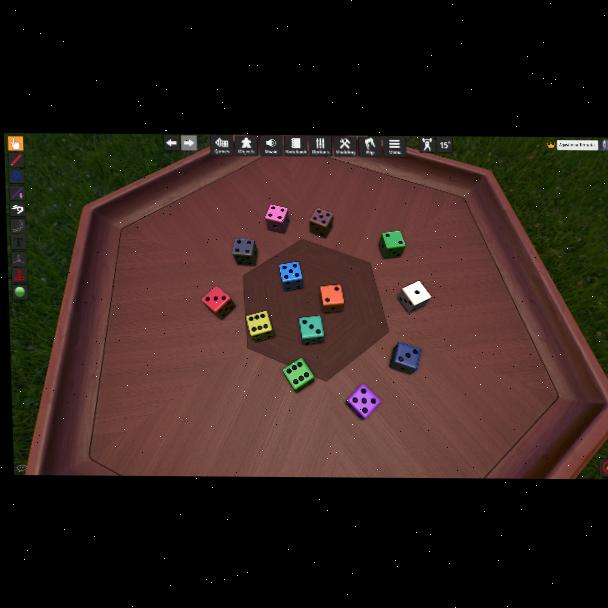d6: (345, 384, 379, 419), (283, 358, 316, 392), (397, 280, 430, 314), (390, 341, 422, 375), (202, 286, 233, 319), (245, 311, 274, 342), (379, 230, 406, 259), (265, 204, 290, 234), (309, 208, 334, 238), (280, 262, 305, 292), (232, 238, 258, 266), (299, 316, 324, 344), (320, 285, 344, 313)
